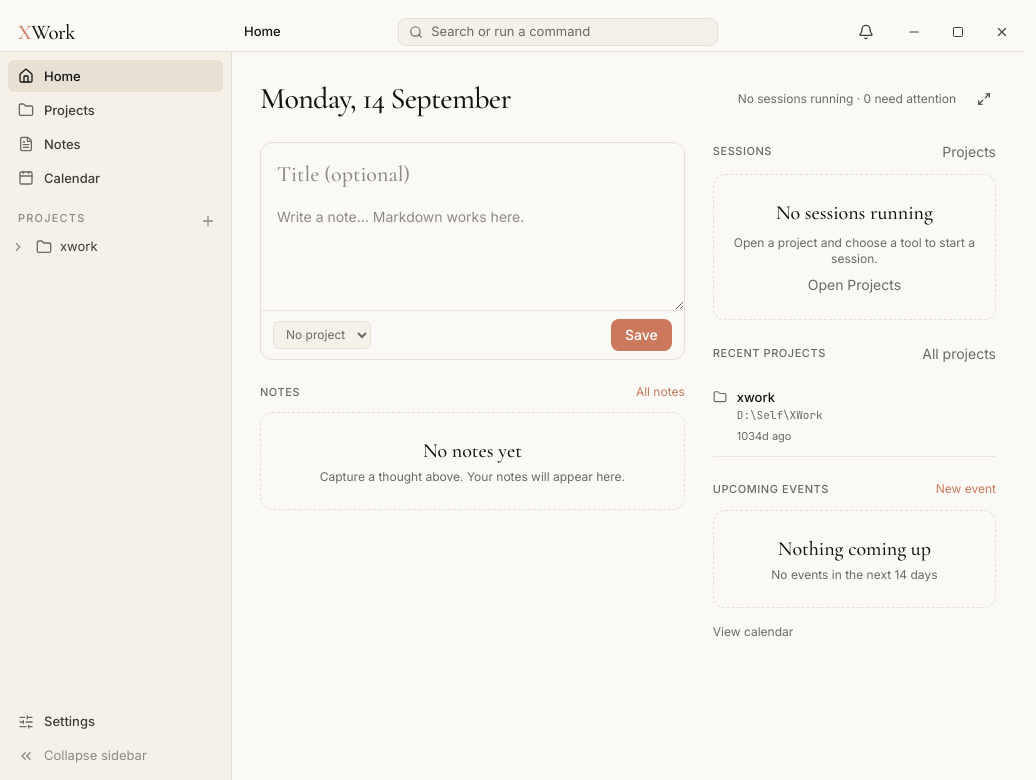
Scenario: AppMenu › opens from the wordmark with the mouse
Click the button with aria-label "XWork menu". click: {"x": 47, "y": 32}
box: [12,16,81,48]
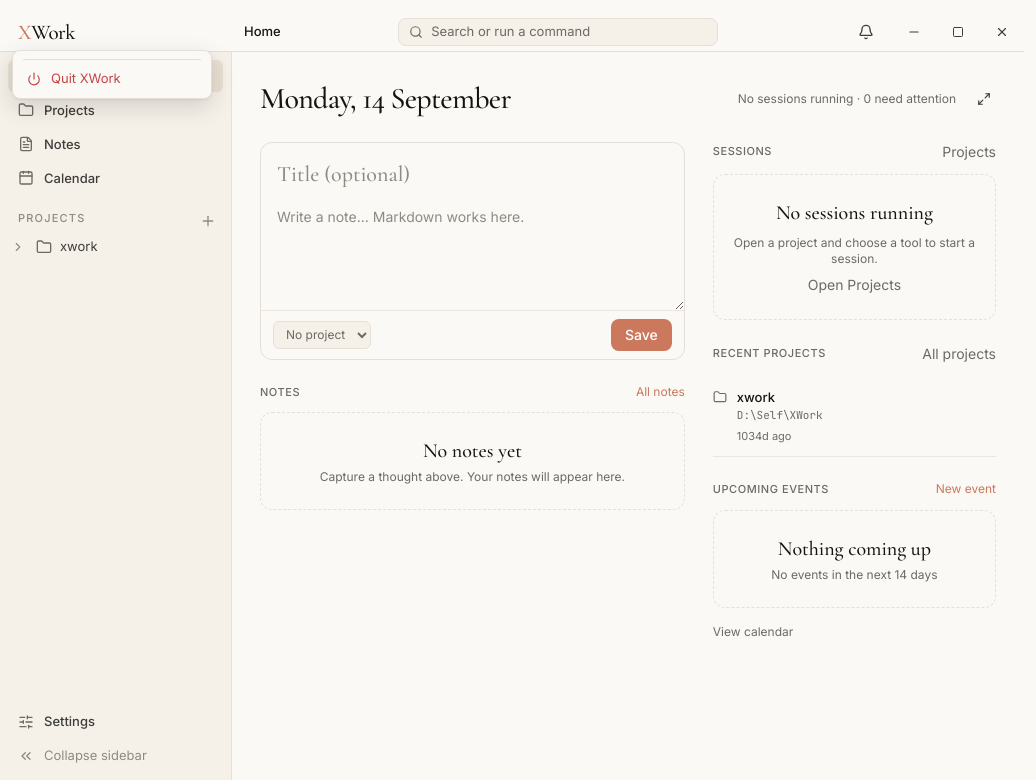
Expected: the menu is shown, [12,50,212,99]
